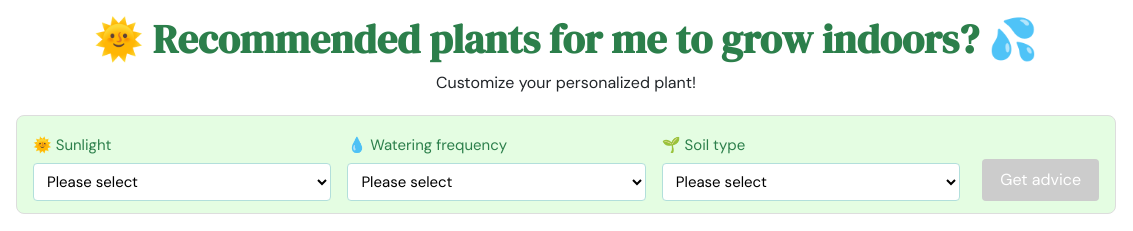
ChatPage › enables the Get advice button after all conditions are selected
Select "Full sun(8 hours per day)" in the dropdown below "🌞 Sunlight": (182, 182) [33,162,331,200]
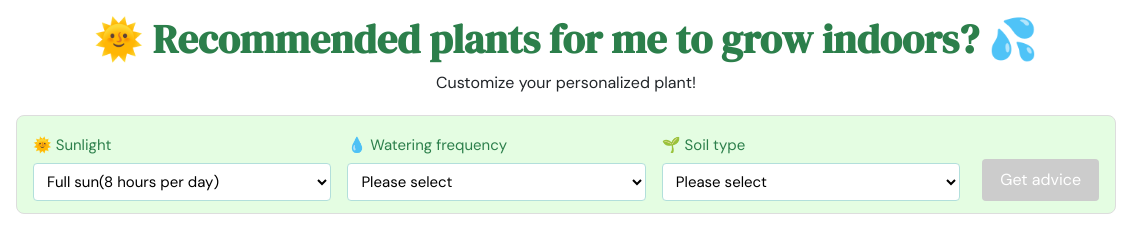
Select "Once per week" in the dropdown below "💧 Watering frequency": (497, 182) [347,162,646,200]
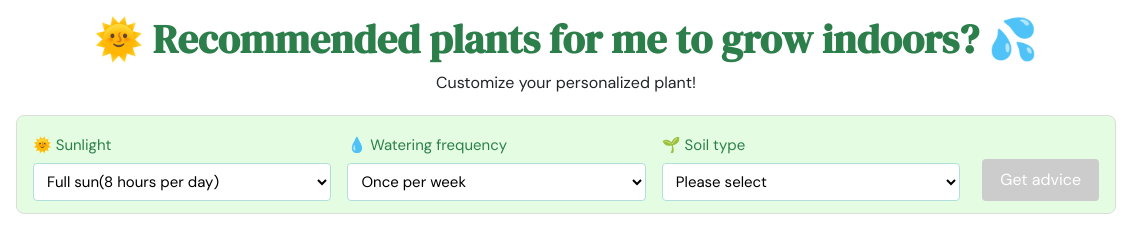
Select "Peat soil" in the dropdown below "🌱 Soil type": (811, 182) [662,162,960,200]
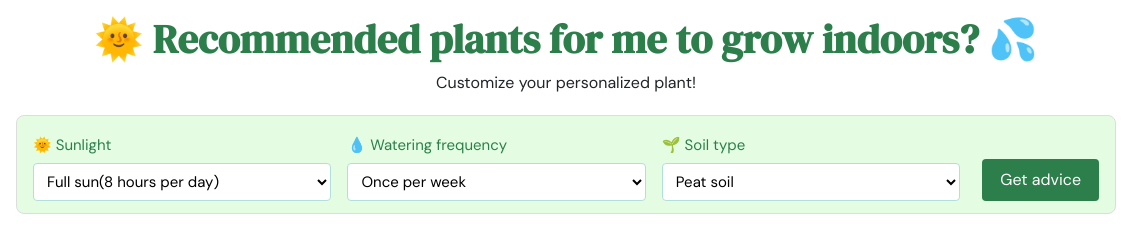
Expected: the button "Get advice" is enabled, [982,158,1099,200]
